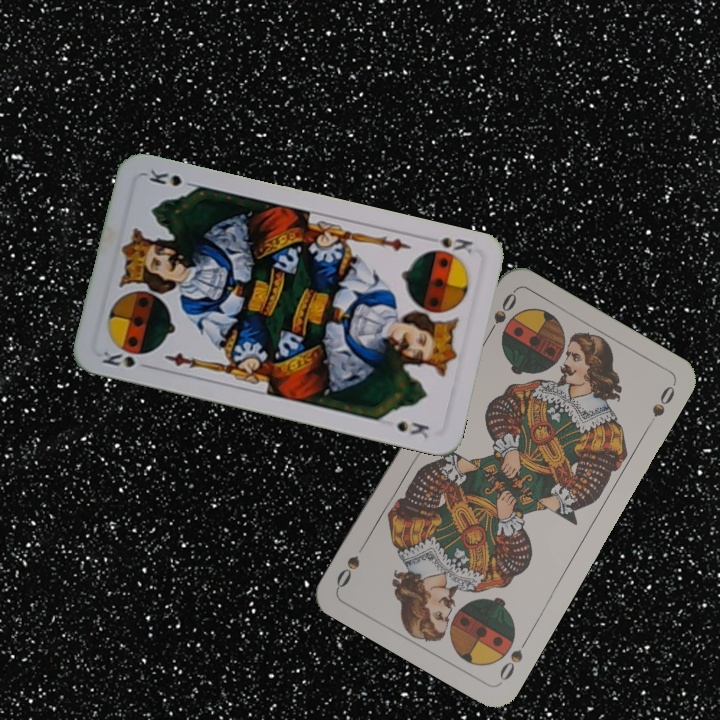SK: (436, 233, 476, 259), (98, 346, 138, 371)
SO: (481, 288, 520, 342), (495, 632, 532, 684)
